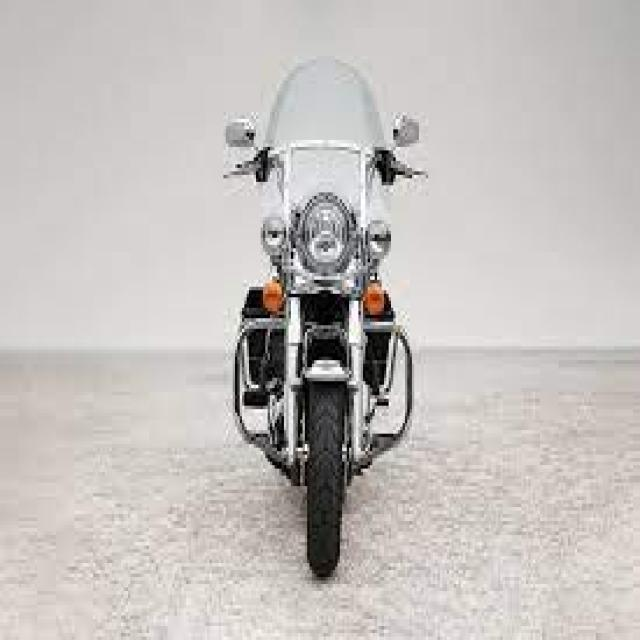MOTORCYCLE: (240, 128, 385, 582)
